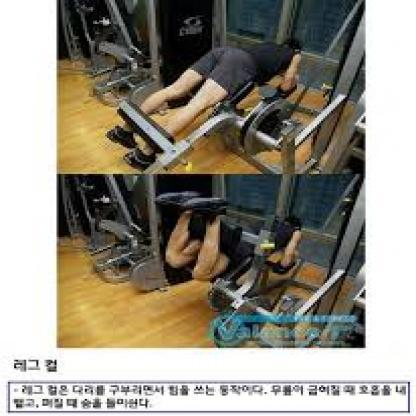reg curl machine: (117, 179, 367, 343), (106, 28, 349, 174)
